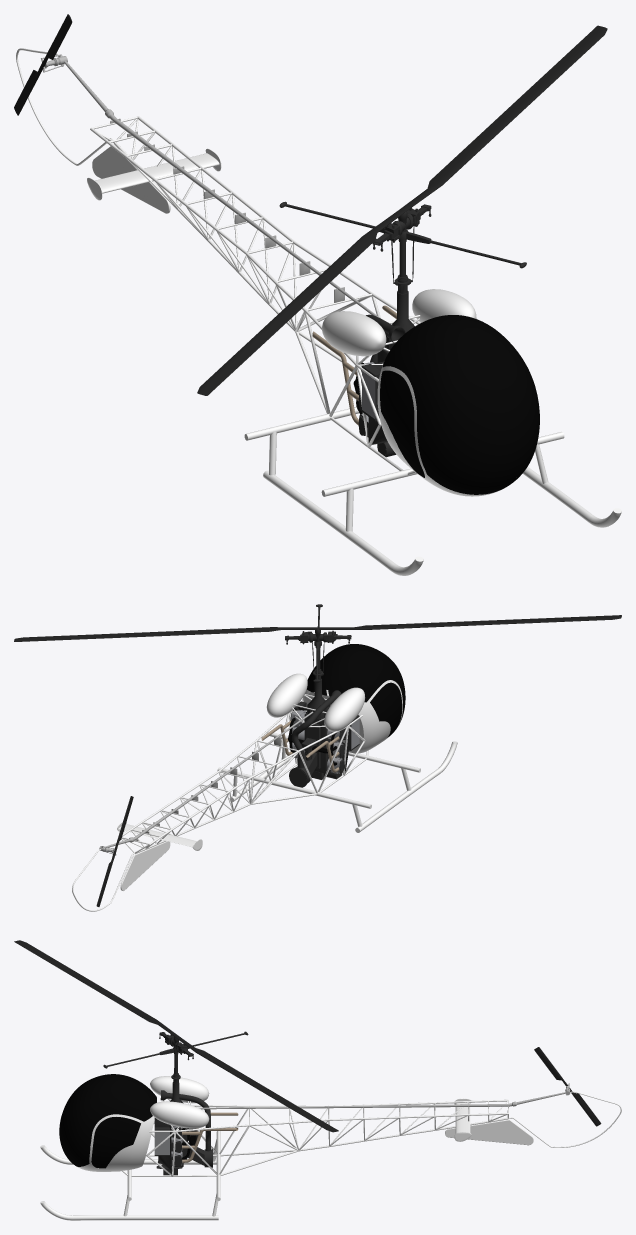
Rendered from bell_h13_helicopter.glb.
3 views of the same model, one above another, from view 1: azimuth 30°, elevation 25°; view 2: azimuth 150°, elevation 25°; view 3: azimuth 270°, elevation 25° (orthographic). The views are drawn at different scales.
Parts seen in each view (by area): view 1: mesh.003_paint_0, mesh.001_glass_0, mesh.002_main_propeller_0, mesh_Material.001_0, mesh.004_strut_0, mesh.006_Material.002_0, mesh.002_tail_propeller_0; view 2: mesh.003_paint_0, mesh.001_glass_0, mesh.002_main_propeller_0, mesh.006_Material.002_0, mesh_Material.001_0, mesh.004_strut_0, mesh.007_Blinds_Roman_Hobbled_Blue_0, mesh.008_copper_0, mesh.002_tail_propeller_0; view 3: mesh.003_paint_0, mesh.001_glass_0, mesh.002_main_propeller_0, mesh_Material.001_0, mesh.006_Material.002_0, mesh.004_strut_0, mesh.002_tail_propeller_0, mesh.007_Blinds_Roman_Hobbled_Blue_0, mesh.008_copper_0.
Part boxes in pixels (x1,y1,x2,y2): mesh.003_paint_0: (16,48,621,575); mesh.001_glass_0: (380,315,539,494); mesh.002_main_propeller_0: (197,25,607,395); mesh_Material.001_0: (279,201,526,363); mesh.004_strut_0: (41,54,380,318); mesh.006_Material.002_0: (356,347,396,457); mesh.002_tail_propeller_0: (14,14,72,115); mesh.003_paint_0: (72,673,457,911); mesh.001_glass_0: (307,644,405,737); mesh.002_main_propeller_0: (14,615,621,641); mesh.006_Material.002_0: (289,701,359,787); mesh_Material.001_0: (285,604,351,768); mesh.004_strut_0: (99,711,313,855); mesh.007_Blinds_Roman_Hobbled_Blue_0: (291,710,359,773); mesh.008_copper_0: (261,720,339,772); mesh.002_tail_propeller_0: (96,796,133,906); mesh.003_paint_0: (40,1076,621,1220); mesh.001_glass_0: (59,1074,156,1168); mesh.002_main_propeller_0: (14,940,338,1132); mesh_Material.001_0: (103,1031,248,1151); mesh.006_Material.002_0: (154,1118,212,1175); mesh.004_strut_0: (198,1083,570,1116); mesh.002_tail_propeller_0: (534,1047,601,1126); mesh.007_Blinds_Roman_Hobbled_Blue_0: (154,1125,182,1165); mesh.008_copper_0: (182,1112,238,1162).
Bounding box in the file's own units: 7.65 × 2.92 × 10.24.
